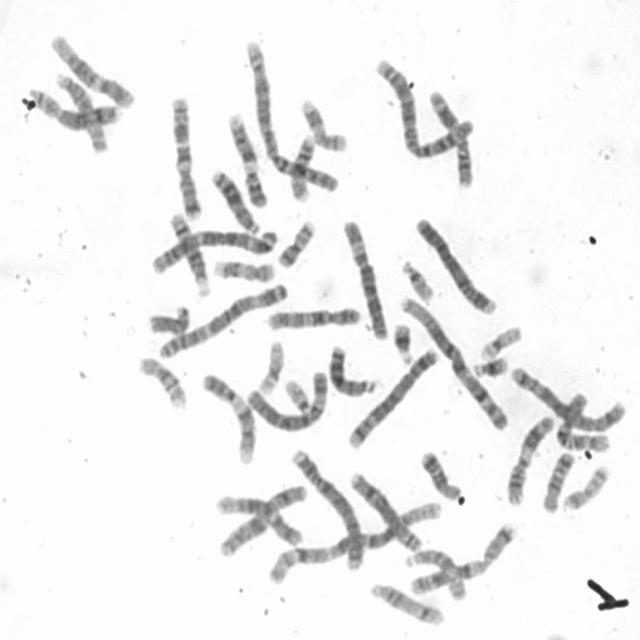A1: (395, 290, 513, 433), (265, 496, 443, 587)
A2: (241, 35, 342, 196), (372, 52, 477, 163)
A3: (152, 277, 291, 360), (148, 224, 282, 276)
B4: (286, 444, 367, 571), (412, 212, 499, 317)
B5: (344, 342, 441, 450), (506, 360, 630, 434)
C10: (554, 389, 614, 452), (262, 301, 364, 333)
C11: (424, 84, 477, 189), (504, 410, 558, 507)
C12: (46, 27, 138, 110), (218, 496, 300, 548)
C6: (339, 214, 389, 341), (243, 366, 333, 434)
C7: (405, 518, 520, 597), (166, 90, 204, 222)
C8: (344, 465, 424, 554), (22, 83, 123, 132)
C9: (198, 368, 258, 465), (222, 106, 269, 208)
D13: (208, 163, 262, 236), (324, 338, 380, 398)
D14: (165, 207, 212, 297), (366, 577, 447, 627)
D15: (51, 68, 111, 154), (403, 543, 470, 602)
E16: (134, 351, 188, 411), (286, 129, 318, 203)
E17: (296, 92, 349, 153), (209, 253, 278, 283)
E18: (417, 444, 464, 502), (539, 446, 577, 514)
F19: (254, 335, 287, 397), (476, 320, 524, 361)
F20: (560, 460, 612, 512), (275, 213, 319, 270)
G21: (388, 316, 416, 366), (468, 352, 511, 380)
G22: (398, 254, 437, 303), (280, 374, 314, 415)
X: (214, 482, 309, 557)
Y: (144, 300, 192, 336)
